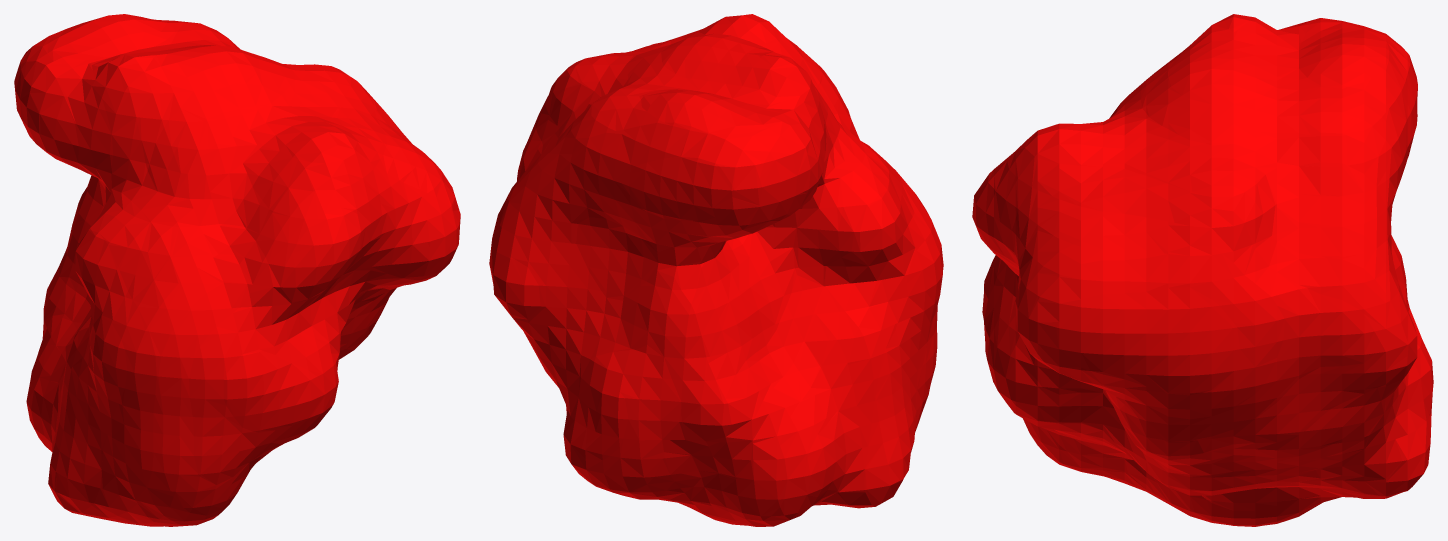
Rendered from yeaK_coarse.dae.
3 views of the same model, side by side, from view 1: azimuth 30°, elevation 25°; view 2: azimuth 150°, elevation 25°; view 3: azimuth 270°, elevation 25° (orthographic). The views are drawn at different scales.
Visible parts, largest first — view 1: yeaK; view 2: yeaK; view 3: yeaK.
Part boxes in pixels (x1,y1,x2,y2): yeaK: (14, 14, 460, 526); yeaK: (489, 14, 943, 526); yeaK: (972, 14, 1433, 526).
Size of the model in its own units: 38.71 by 45.65 by 39.07.
